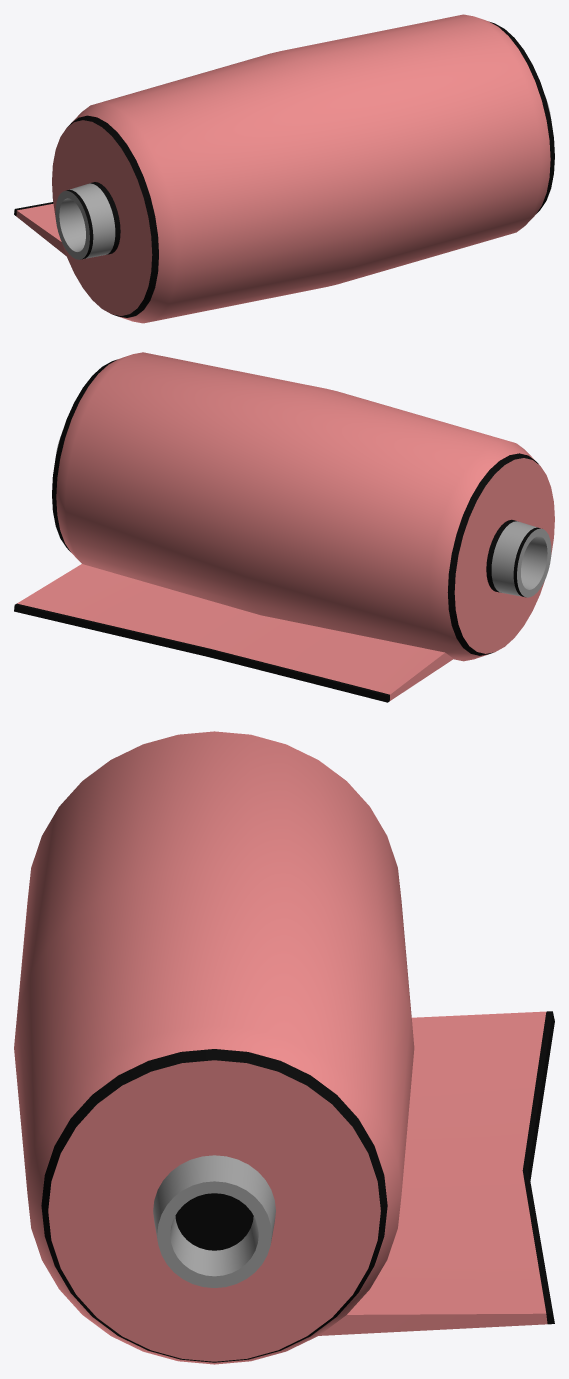
File: PM_Cloth.fbx
The picture shows the model from 3 angles, top to bottom: view 1: azimuth 30°, elevation 25°; view 2: azimuth 150°, elevation 25°; view 3: azimuth 270°, elevation 25°; orthographic projection. The views are drawn at different scales.
Parts seen in each view (by area): view 1: Cloth; view 2: Cloth; view 3: Cloth.
Boxes of the visible parts, x1,y1,x2,y2 form: Cloth: (14, 14, 554, 323); Cloth: (14, 352, 554, 702); Cloth: (14, 731, 554, 1364).
Size of the model in its own units: 1.03 by 0.6322 by 0.4679.
